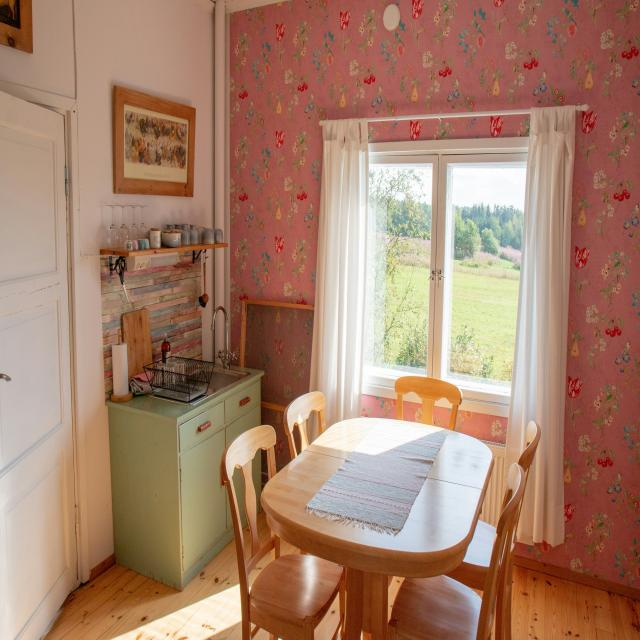floor: (41, 538, 243, 640), (511, 554, 640, 640), (462, 519, 497, 567), (314, 592, 340, 640), (248, 550, 271, 594), (256, 509, 271, 545), (280, 538, 300, 557), (242, 523, 251, 562), (252, 628, 270, 640), (251, 622, 256, 632), (337, 631, 341, 640), (360, 628, 363, 640), (307, 552, 315, 556)
